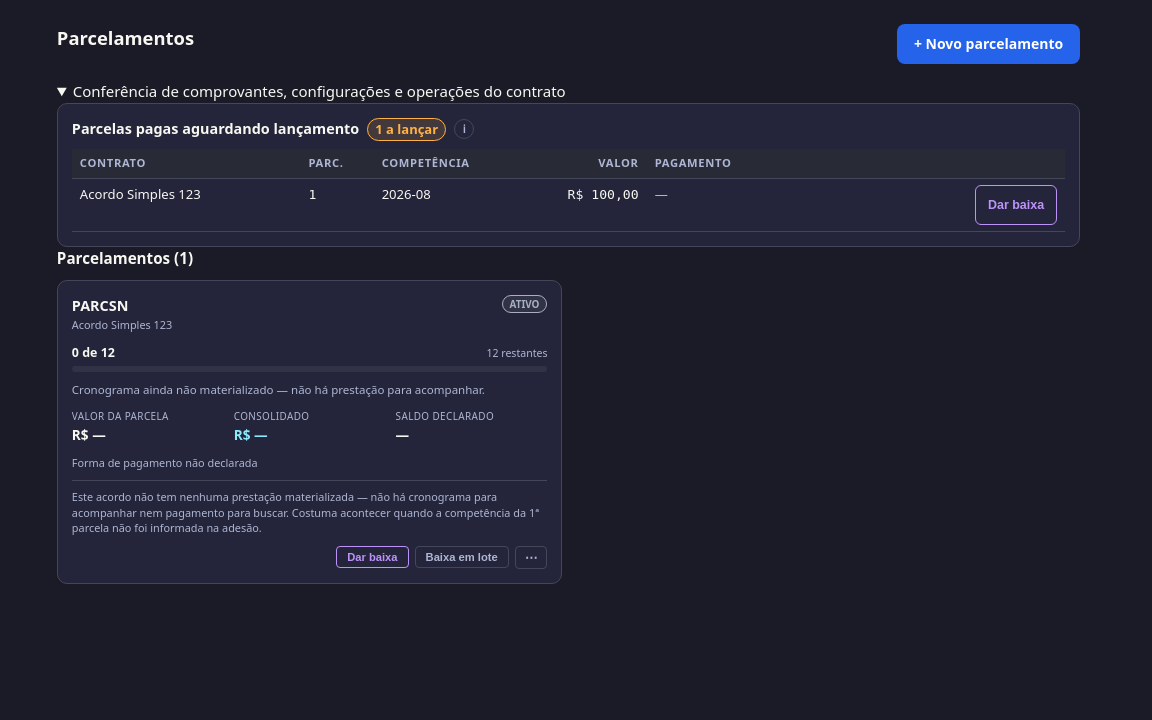
Test: trocar empresa com confirmação aberta cancela o pedido sem lançar na anterior
Click the button titled "Grava os lançamentos de baixa desta parcela (pede confirmação)." in the row of "2026-08". click: (1016, 205)
box: [975, 185, 1057, 225]
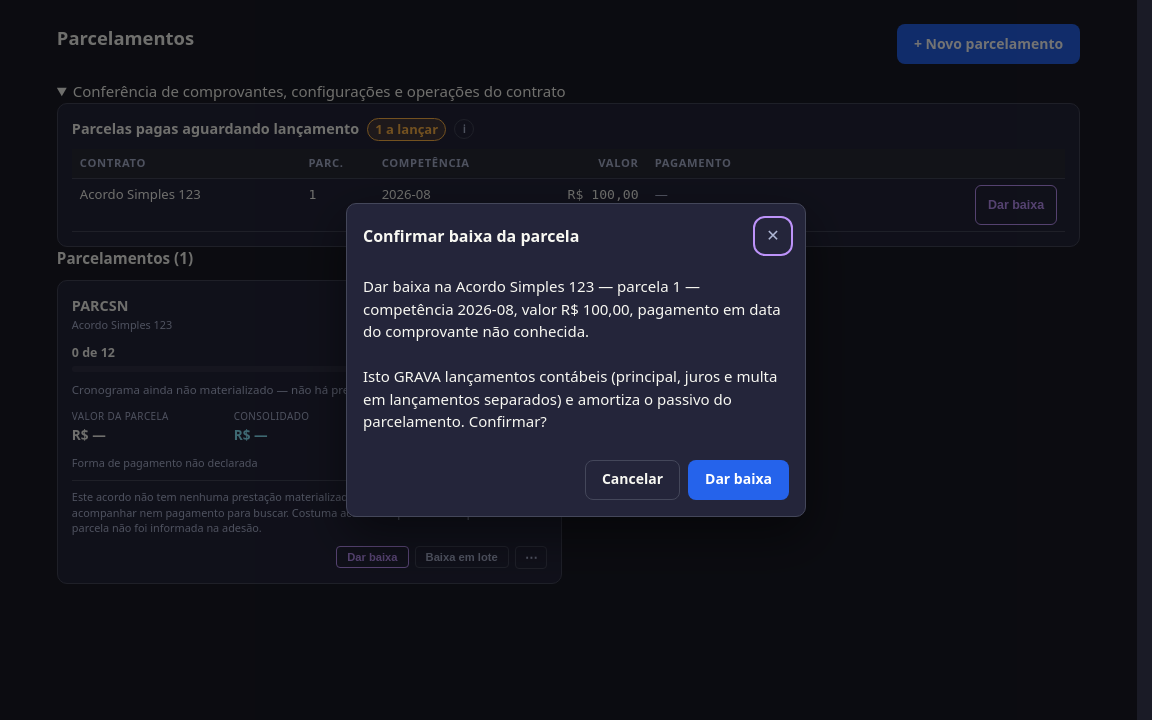
Now the dialog "Confirmar baixa da parcela" is shown
